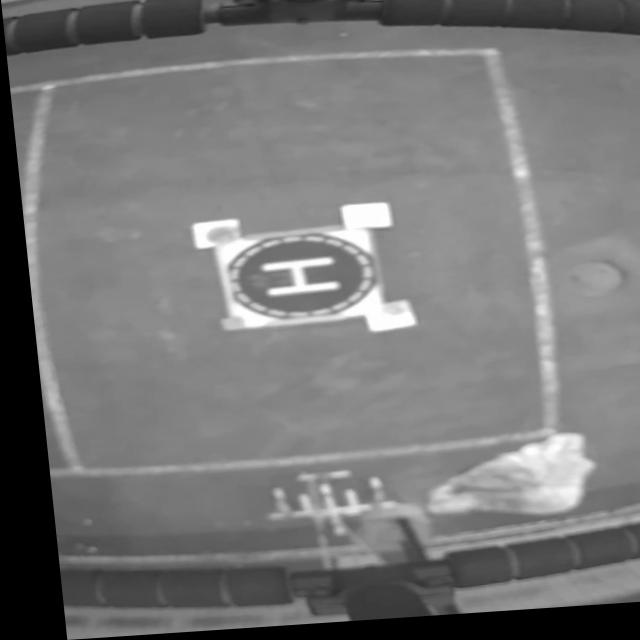Helipad: (254, 260, 328, 301)
